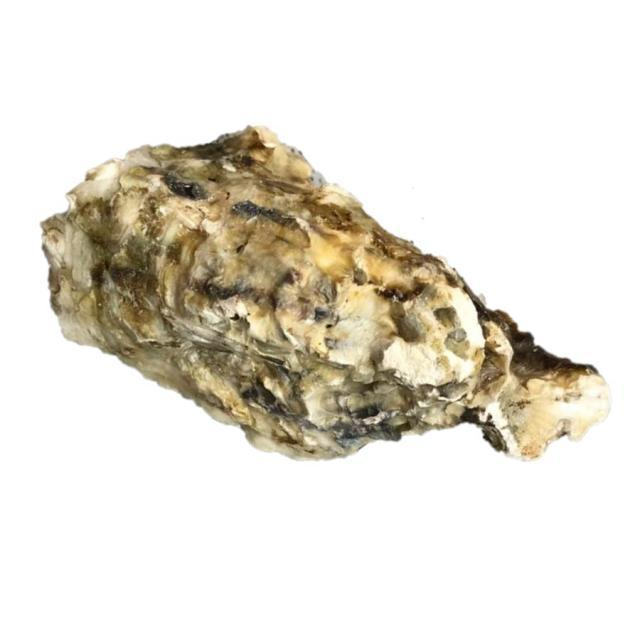Oyster- Indeterminate: (38, 126, 614, 464)
